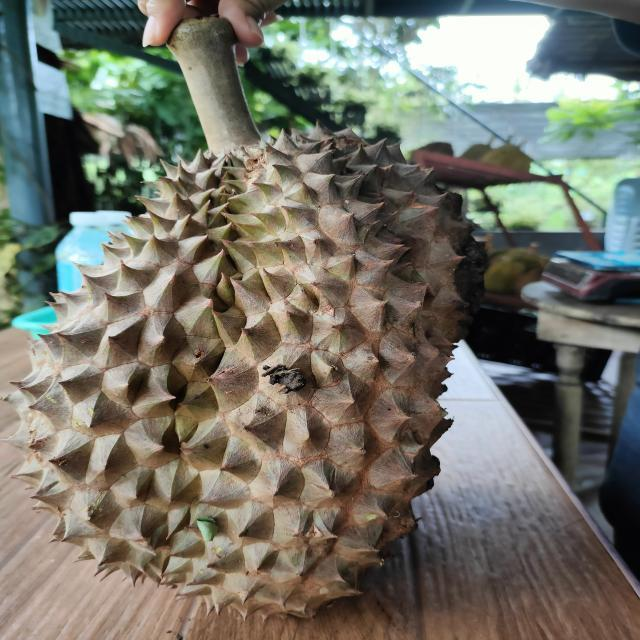mature: (8, 126, 487, 616)
